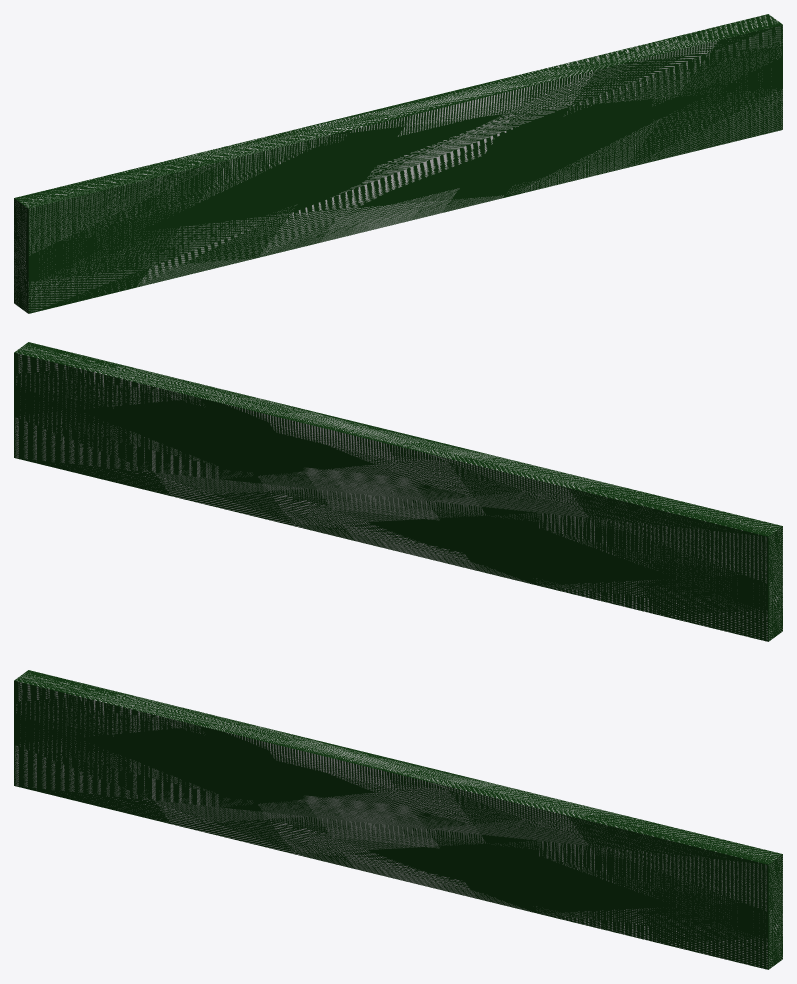
File: original-28.obj
The picture shows the model from 3 angles, top to bottom: view 1: azimuth 30°, elevation 25°; view 2: azimuth 150°, elevation 25°; view 3: azimuth 330°, elevation 25°; orthographic projection.
Visible parts, largest first — view 1: TB1B1/TB1B/mesh22/mesh22-geometry#mesh22-geometry; view 2: TB1B1/TB1B/mesh22/mesh22-geometry#mesh22-geometry; view 3: TB1B1/TB1B/mesh22/mesh22-geometry#mesh22-geometry.
Part boxes in pixels (bbox=[...]): TB1B1/TB1B/mesh22/mesh22-geometry#mesh22-geometry: bbox=[14, 14, 782, 313]; TB1B1/TB1B/mesh22/mesh22-geometry#mesh22-geometry: bbox=[14, 342, 782, 641]; TB1B1/TB1B/mesh22/mesh22-geometry#mesh22-geometry: bbox=[14, 670, 782, 969].
Size of the model in its own units: 0.5691 by 0.0759 by 0.019.
